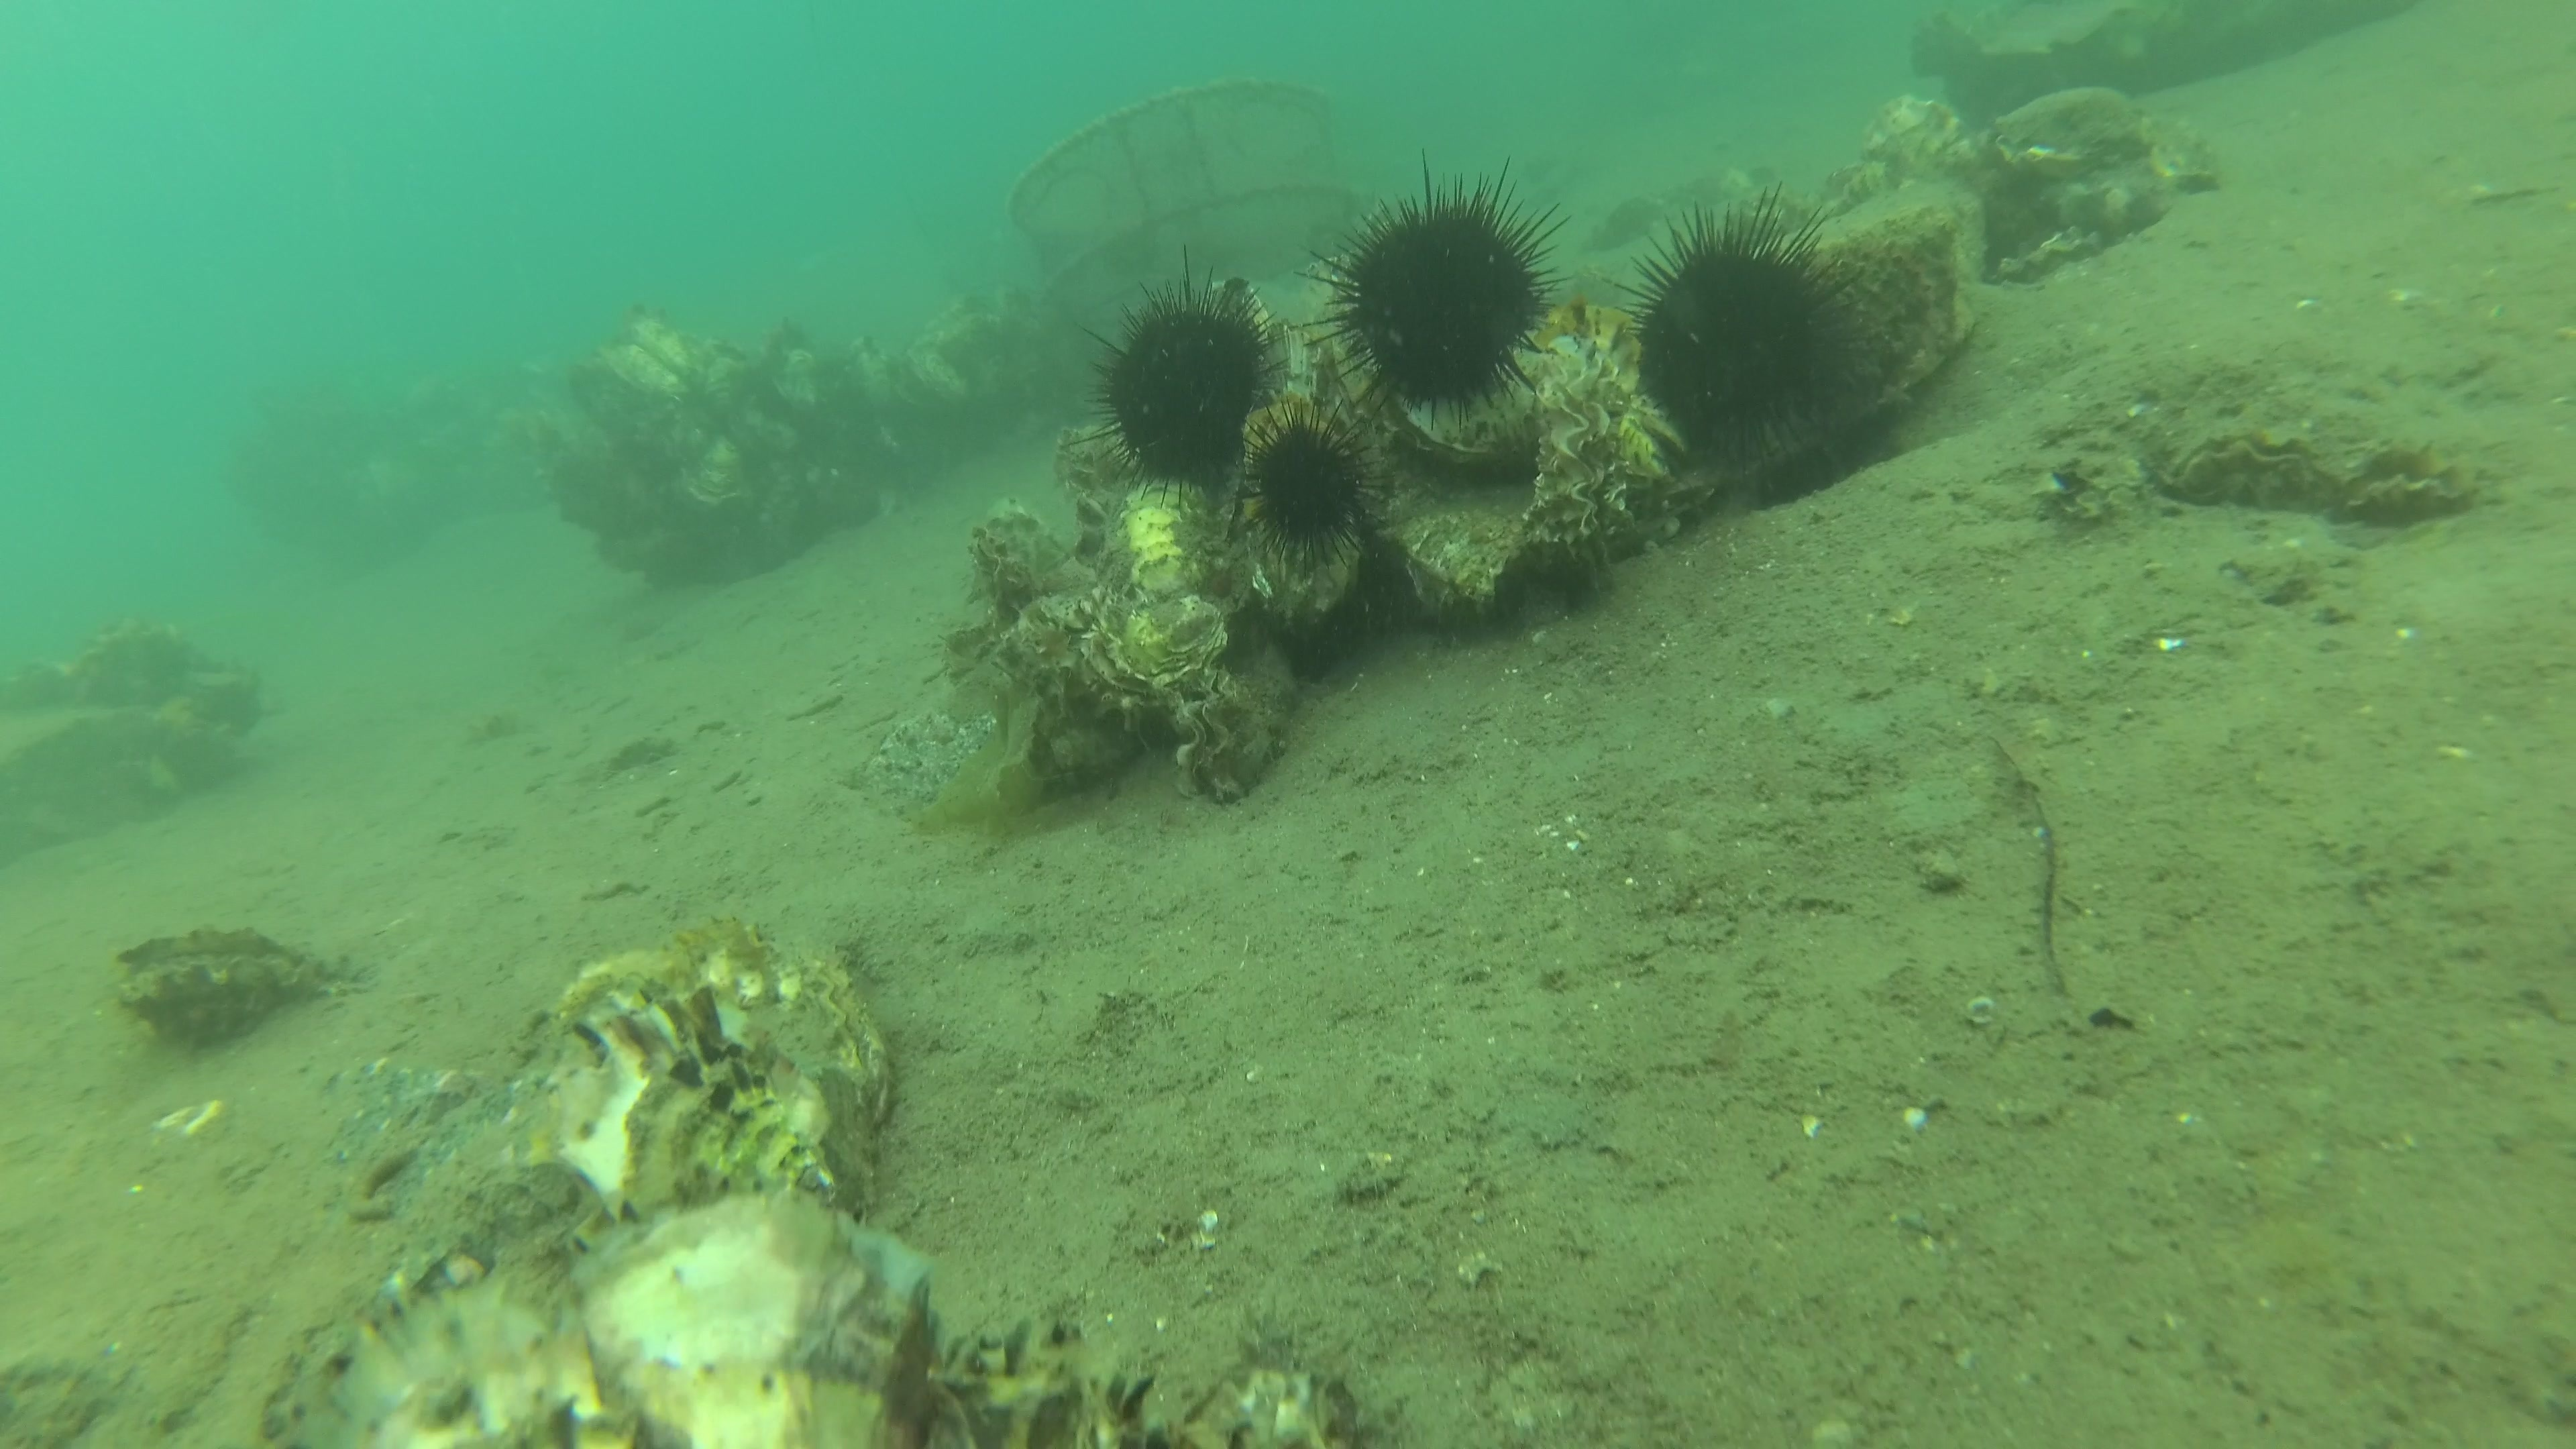echinus: (1300, 143, 1576, 439), (1606, 184, 1877, 469), (1058, 242, 1299, 513), (1235, 389, 1387, 587)
